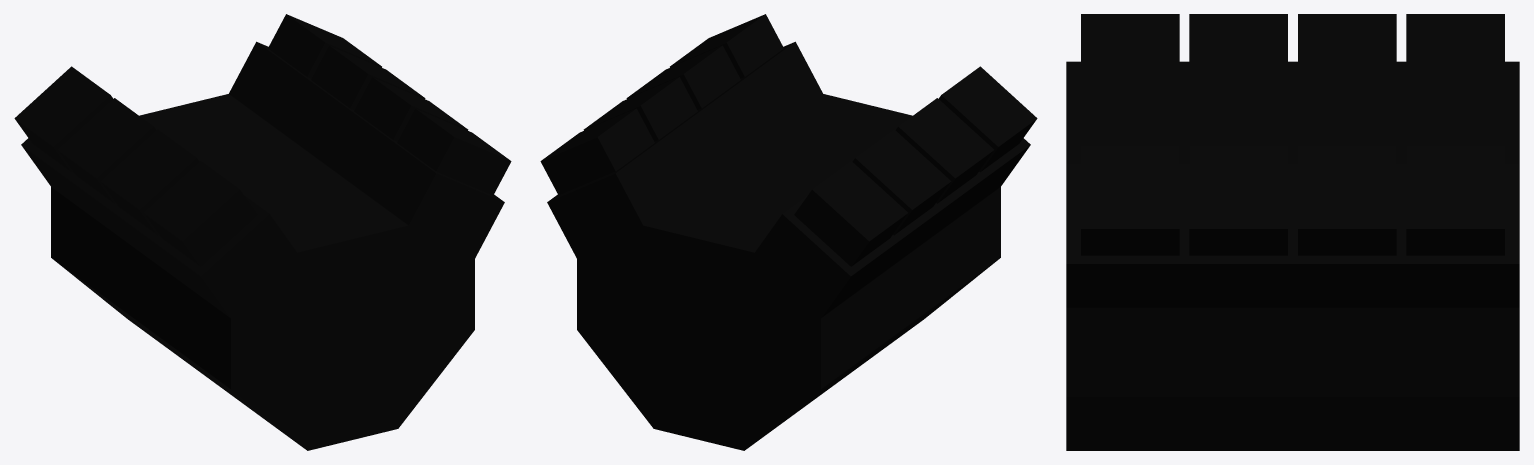
The model's file is v8torqueline.obj.
3 views of the same model, side by side, from view 1: azimuth 30°, elevation 25°; view 2: azimuth 150°, elevation 25°; view 3: azimuth 270°, elevation 25° (orthographic). The views are drawn at different scales.
Parts seen in each view (by area): view 1: cube; view 2: cube; view 3: cube.
Part boxes in pixels (x1,y1,x2,y2): cube: [14, 14, 511, 450]; cube: [540, 14, 1037, 450]; cube: [1066, 14, 1519, 450].
Bounding box in the file's own units: 1.25 × 0.9899 × 1.19.
